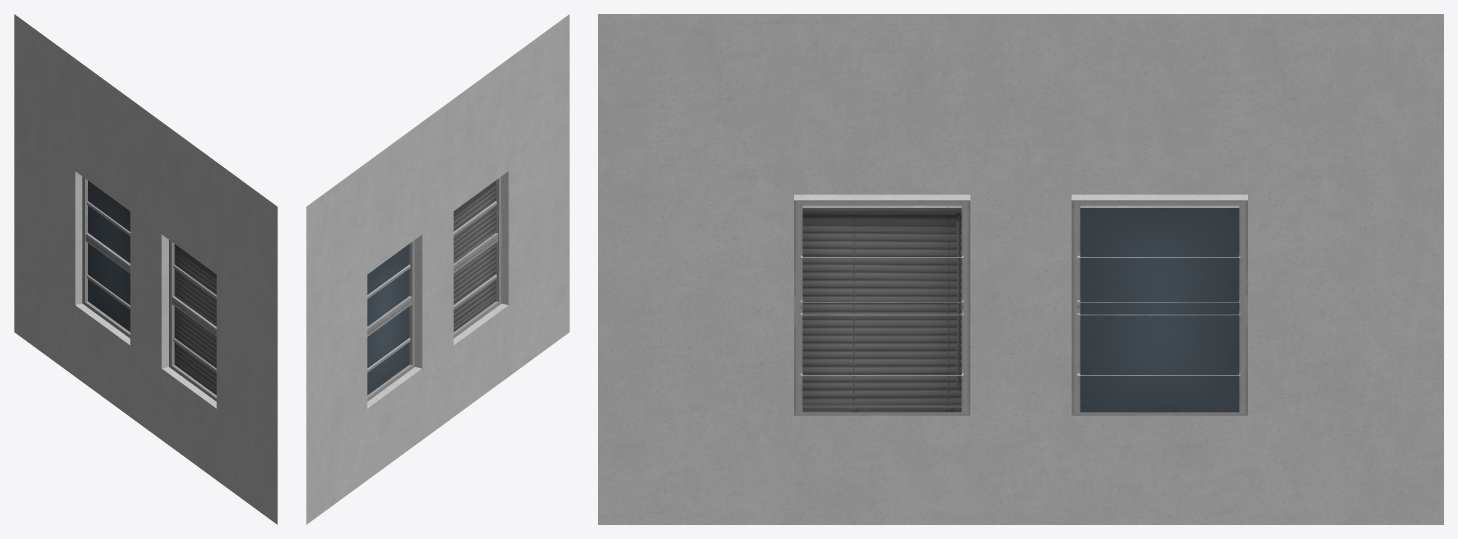
Rendered from MB_Wall_Window_A_03.fbx.
3 renders of one model, left to right at view 1: azimuth 30°, elevation 25°; view 2: azimuth 150°, elevation 25°; view 3: azimuth 270°, elevation 25°, orthographic. The views are drawn at different scales.
Parts seen in each view (by area): view 1: MB_Wall_Window_A_03; view 2: MB_Wall_Window_A_03; view 3: MB_Wall_Window_A_03.
Part boxes in pixels (left/top/right/bottom): MB_Wall_Window_A_03: left=14, top=14, right=277, bottom=524; MB_Wall_Window_A_03: left=306, top=14, right=569, bottom=524; MB_Wall_Window_A_03: left=598, top=14, right=1443, bottom=524.
Bounding box in the file's own units: 13.91 × 400 × 600.
